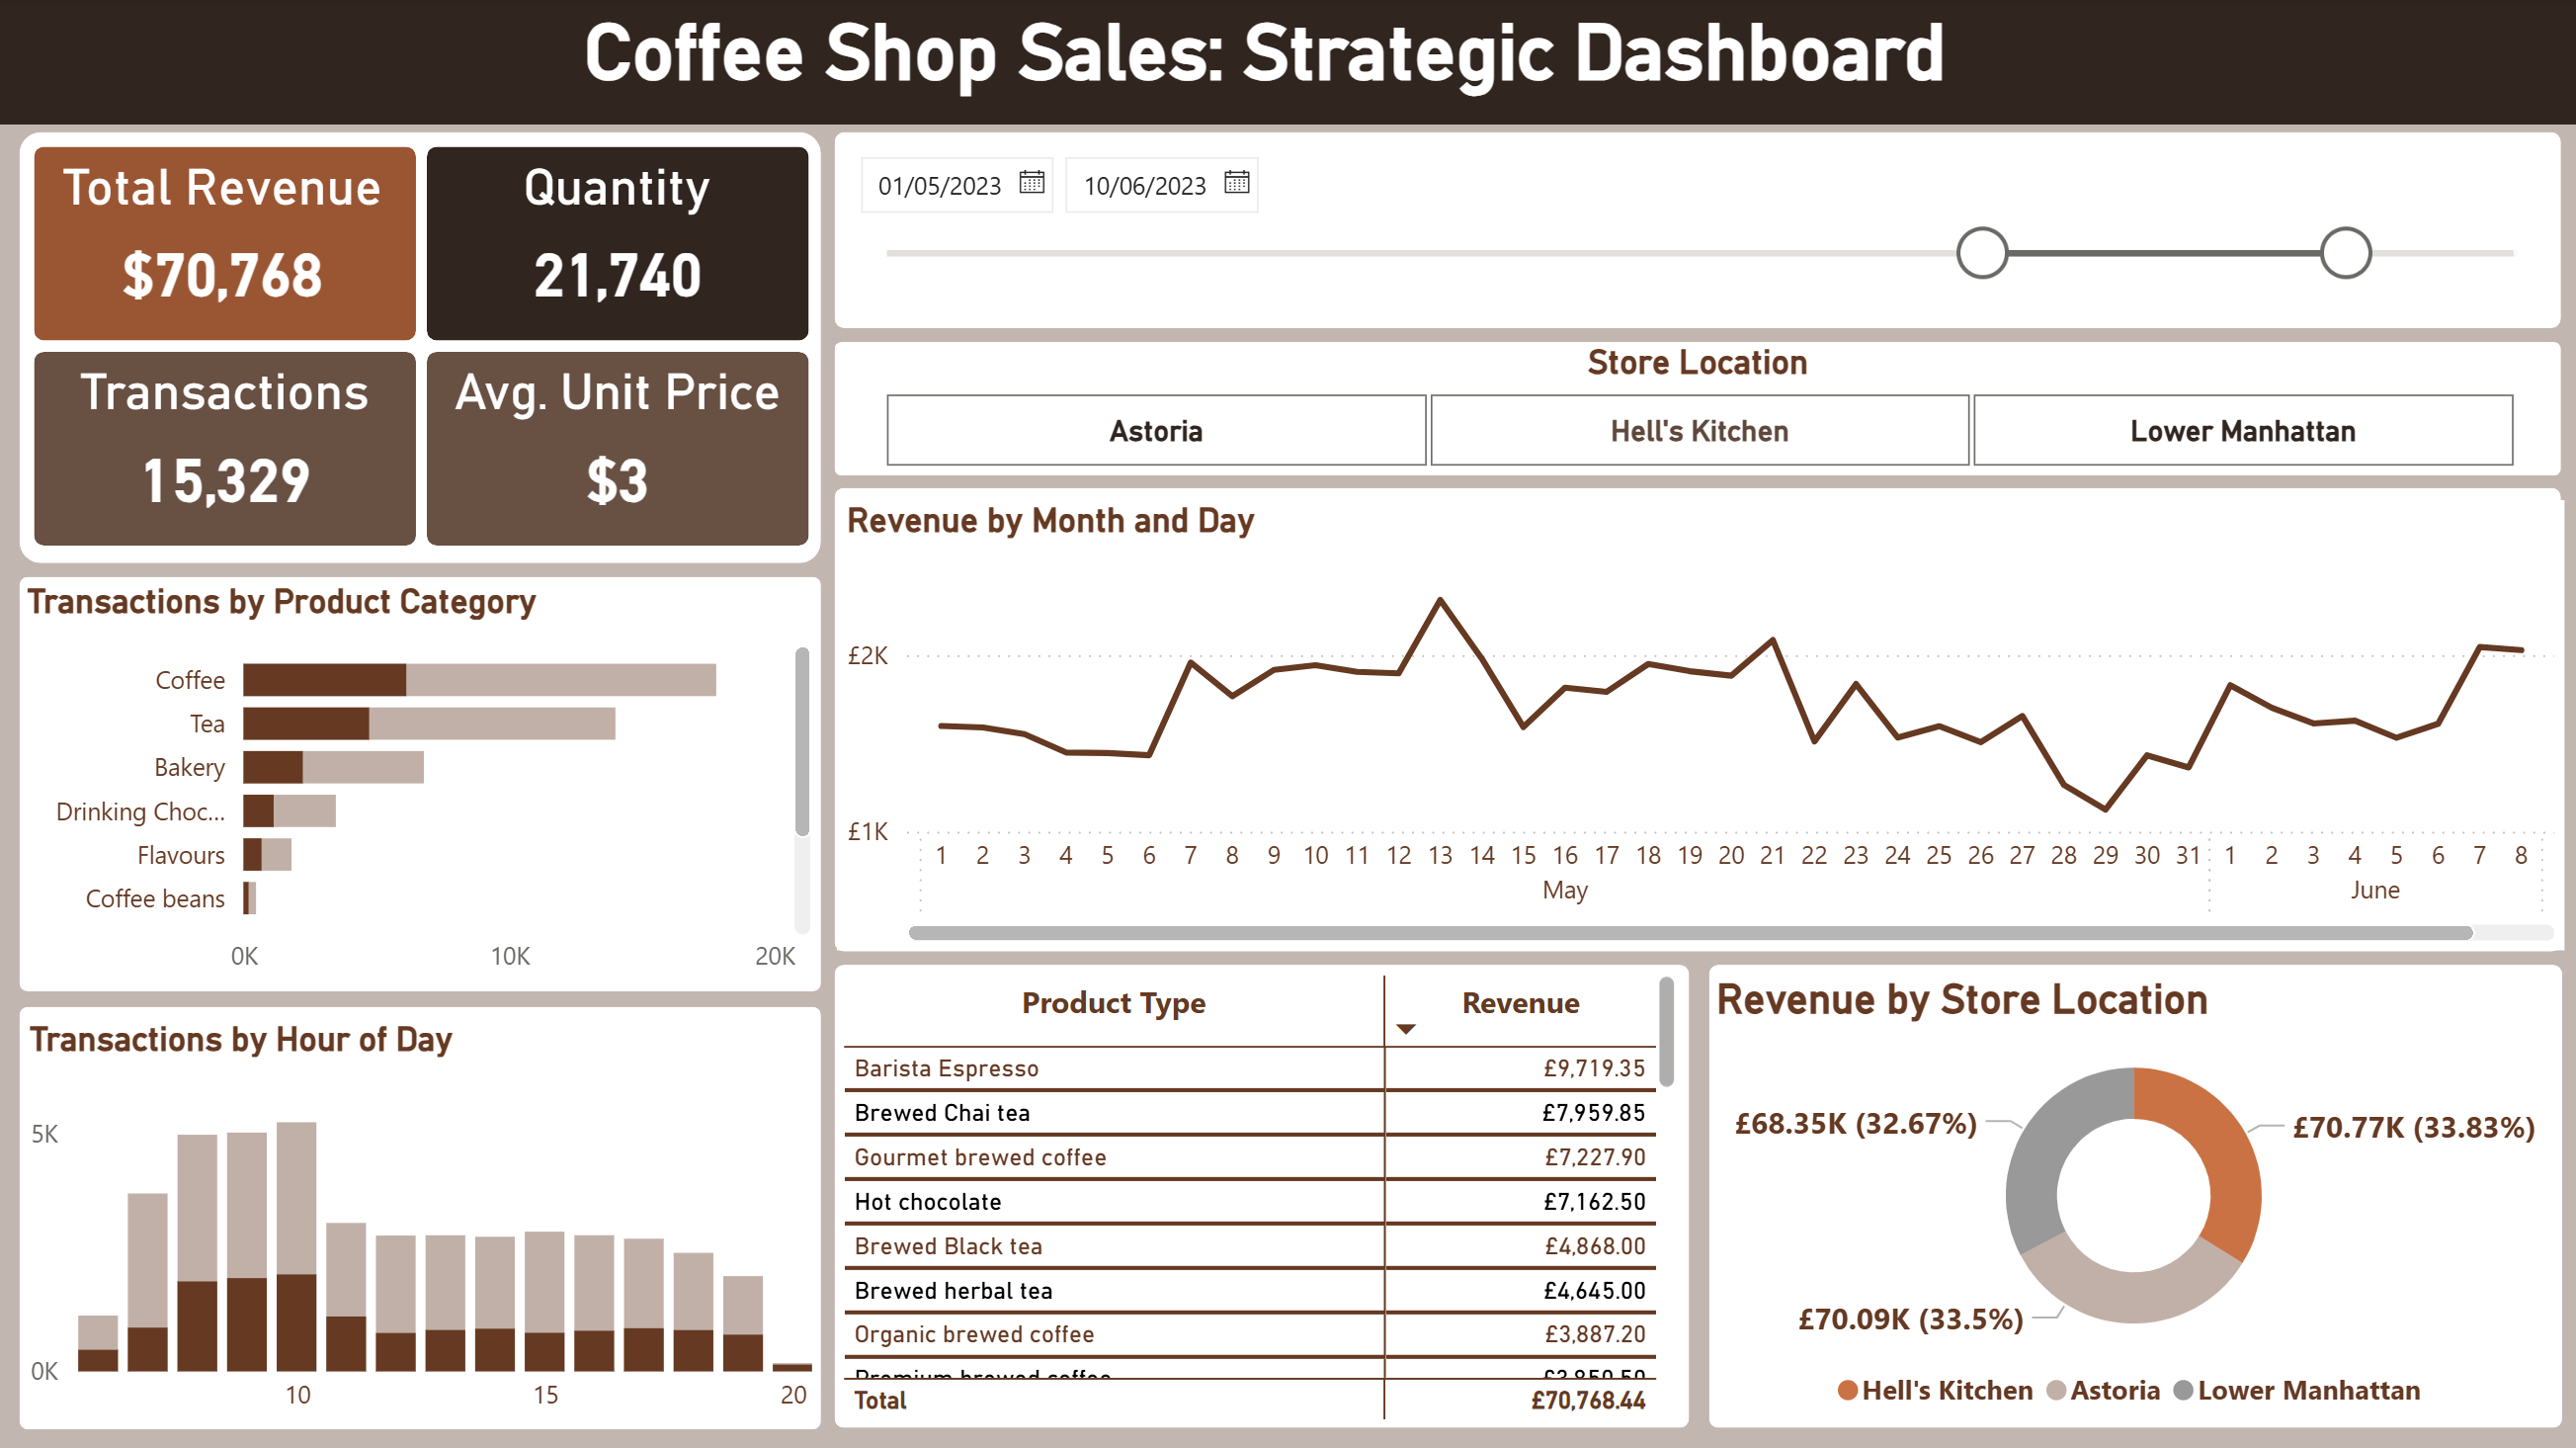

This screenshot's page, from the dashboard's own definition file:
{"tool":"powerbi","page":{"name":"Page 1","canvas":[1280,720],"ordinal":0},"visuals":[{"type":"shape","box":[414.5,67.5,854.7,97.2],"z":0},{"type":"shape","box":[11.4,67.3,396.9,213.4],"z":1000},{"type":"shape","box":[0,0,1280.3,63.6],"z":2000},{"type":"textbox","box":[0,0,1255.7,63.5],"z":3000},{"type":"shape","box":[17.9,74.3,189,95.9],"z":4000},{"type":"card","title":"Total Revenue","fields":{"Values":["Sum(Transactions.Revenue)"]},"box":[17.5,79.7,188.7,84.5],"z":5000},{"type":"shape","box":[17.9,175.5,189,95.9],"z":6000},{"type":"shape","box":[212.3,175.5,189,95.9],"z":7000},{"type":"shape","box":[212.3,74.3,189,95.9],"z":8000},{"type":"card","title":"Quantity","fields":{"Values":["Sum(Transactions.transaction_qty)"]},"box":[212.4,79.7,188.7,84.5],"z":9000},{"type":"card","title":"Transactions","fields":{"Values":["CountNonNull(Transactions.transaction_id)"]},"box":[18.2,181.1,188.5,84.6],"z":10000},{"type":"shape","box":[414.5,171.5,854.7,66.2],"z":11000},{"type":"slicer","title":"Store Location","fields":{"Values":["Transactions.store_location"]},"box":[415,171.7,855,68.3],"z":12000},{"type":"slicer","fields":{"Values":["Transactions.transaction_date"]},"box":[414.5,70.2,854.7,93.2],"z":13000},{"type":"shape","box":[414.5,243,854.7,229.5],"z":14000},{"type":"shape","box":[414.3,479.6,423.1,229.3],"z":15000},{"type":"shape","box":[10.8,287.2,397,205.2],"z":16000},{"type":"shape","box":[10.8,499.6,397,209.3],"z":17000},{"type":"shape","box":[846.9,479.6,422.4,229.3],"z":18000},{"type":"donutChart","title":"Revenue by Store Location","fields":{"Category":["Transactions.store_location"],"Y":["Sum(Transactions.Revenue)"]},"box":[846.5,484.4,422.7,224.5],"z":19000},{"type":"tableEx","title":"Revenue by Store Location","fields":{"Values":["Transactions.product_type","Sum(Transactions.Revenue)"]},"box":[413.9,479.7,422.8,230.4],"z":20000},{"type":"lineChart","title":"Revenue by Month and Day","fields":{"Category":["Transactions.transaction_date.Variation.Date Hierarchy.Month","Transactions.transaction_date.Variation.Date Hierarchy.Day"],"Y":["Sum(Transactions.Revenue)"]},"box":[415.3,250,855.1,222.9],"z":21000},{"type":"columnChart","title":"Transactions by Hour of Day","fields":{"Category":["Transactions.HourNumber"],"Y":["CountNonNull(Transactions.transaction_qty)"]},"box":[10.8,505.8,397.5,204.2],"z":22000},{"type":"clusteredBarChart","title":"Transactions by Product Category","fields":{"Category":["Transactions.product_category"],"Y":["CountNonNull(Transactions.transaction_qty)"]},"box":[10,290,397.8,203.3],"z":23000},{"type":"card","title":"Avg. Unit Price","fields":{"Values":["Avg(Transactions.unit_price)"]},"box":[212.2,181.1,188.9,84.4],"z":24000}]}

Visuals, with their boxes in screenshot pixels (x1, y1, x2, y2), scaled from the page's 1280x720 canvas onto the 2576x1448 screenshot:
shape: 834 135 2554 331
shape: 23 135 822 564
shape: 0 0 2575 128
textbox: 0 0 2528 128
shape: 36 149 416 342
"Total Revenue" card: 36 160 415 330
shape: 36 353 416 546
shape: 427 353 807 546
shape: 427 149 807 342
"Quantity" card: 428 160 807 330
"Transactions" card: 37 364 416 535
shape: 834 345 2554 478
"Store Location" slicer: 835 345 2556 482
slicer - Transactions.transaction_date: 834 141 2554 328
shape: 834 488 2554 950
shape: 834 965 1686 1425
shape: 22 577 821 990
shape: 22 1005 821 1425
shape: 1704 965 2554 1425
"Revenue by Store Location" donutChart: 1703 975 2554 1425
"Revenue by Store Location" tableEx: 833 965 1684 1428
"Revenue by Month and Day" lineChart: 836 503 2556 951
"Transactions by Hour of Day" columnChart: 22 1017 822 1428
"Transactions by Product Category" clusteredBarChart: 20 583 821 992
"Avg. Unit Price" card: 427 364 807 534
